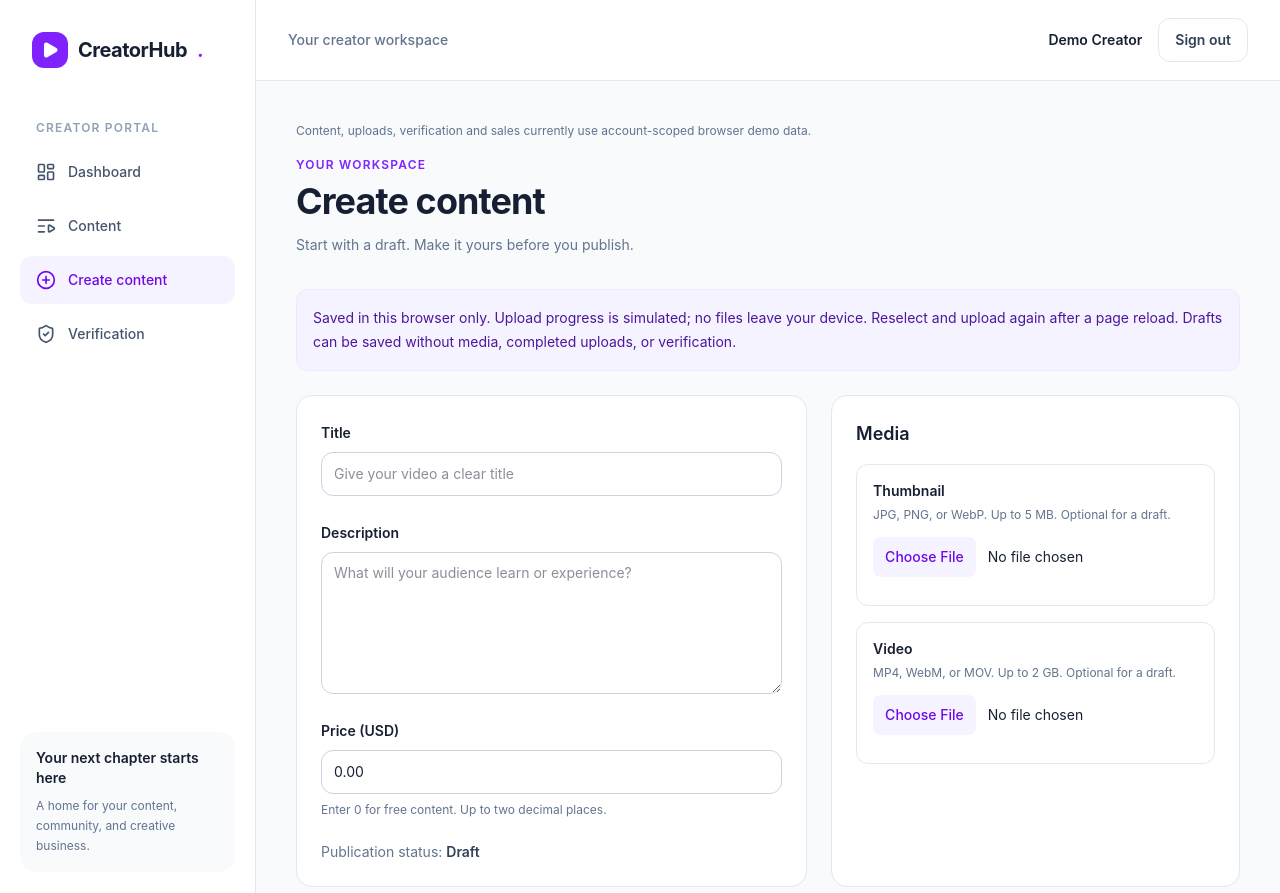
Test: content draft workflow › retains entered values and reports a failed save
This screenshot has width=1280, height=893.
Type "My first tutorial" into the field labelled "Title". click: (552, 474)
box: [321,452,782,496]
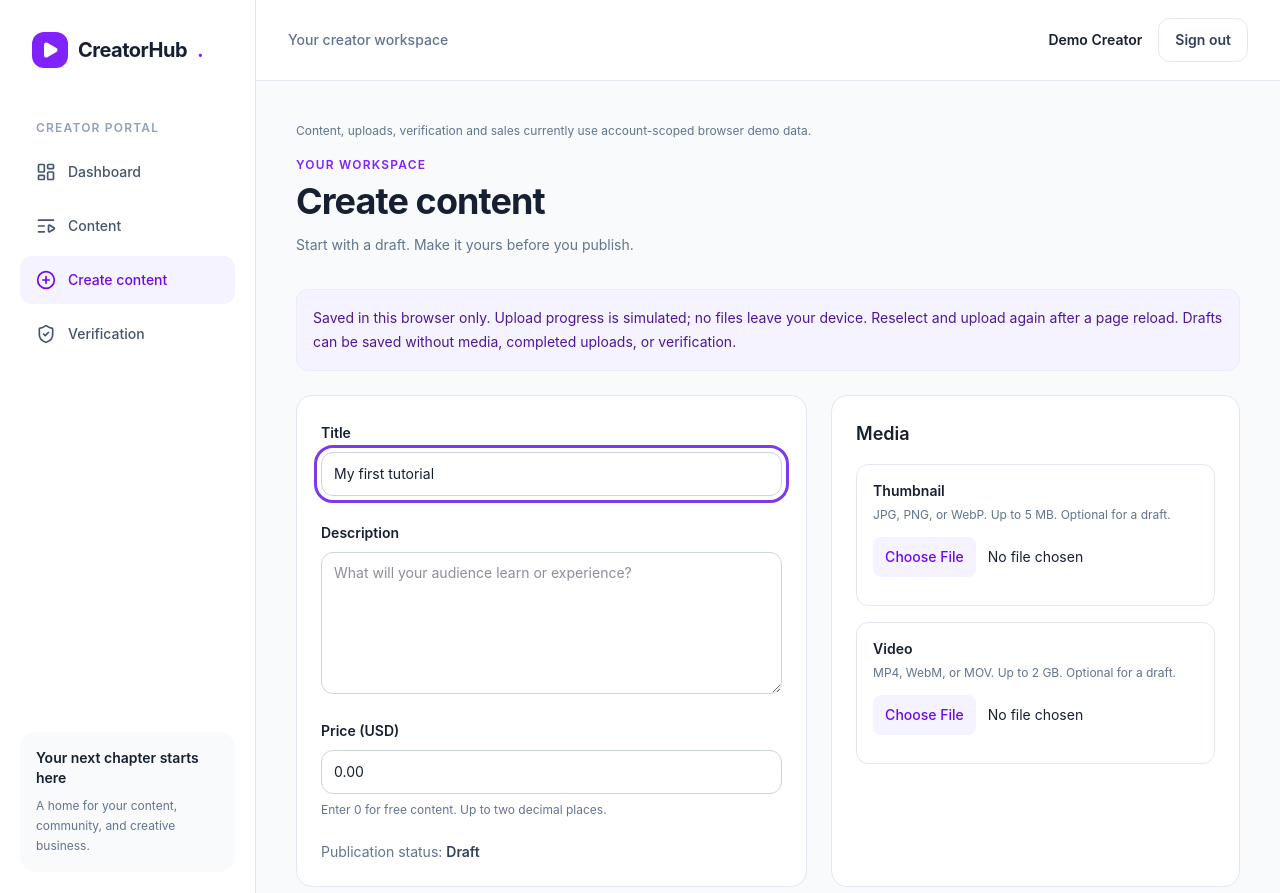
Type "Learn something useful today." into the text box labelled "Description". click: (552, 623)
box: [321,552,782,694]
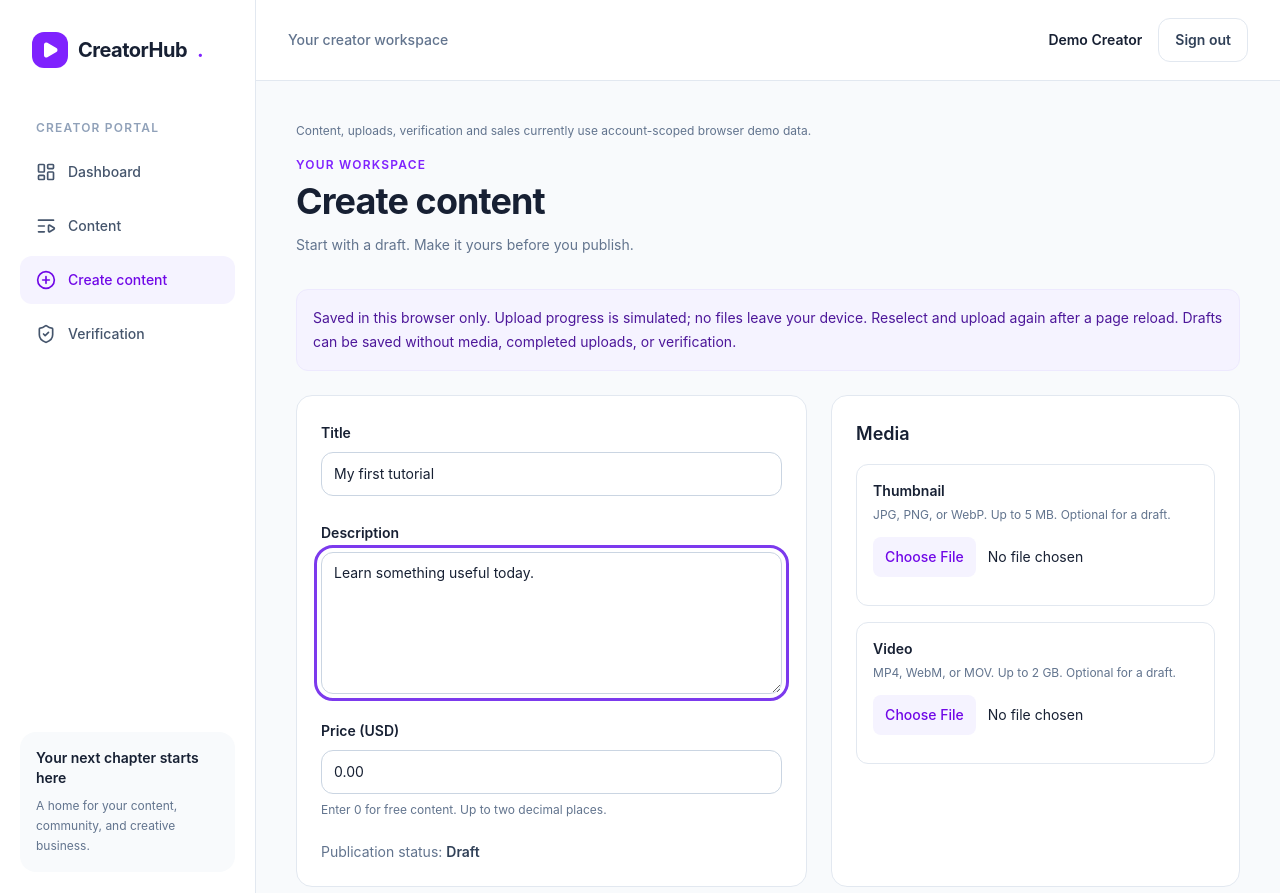
Replace the text in the field labelled "Price (USD)" with "9.99". click: (552, 772)
box: [321,750,782,794]
(page scrolled)
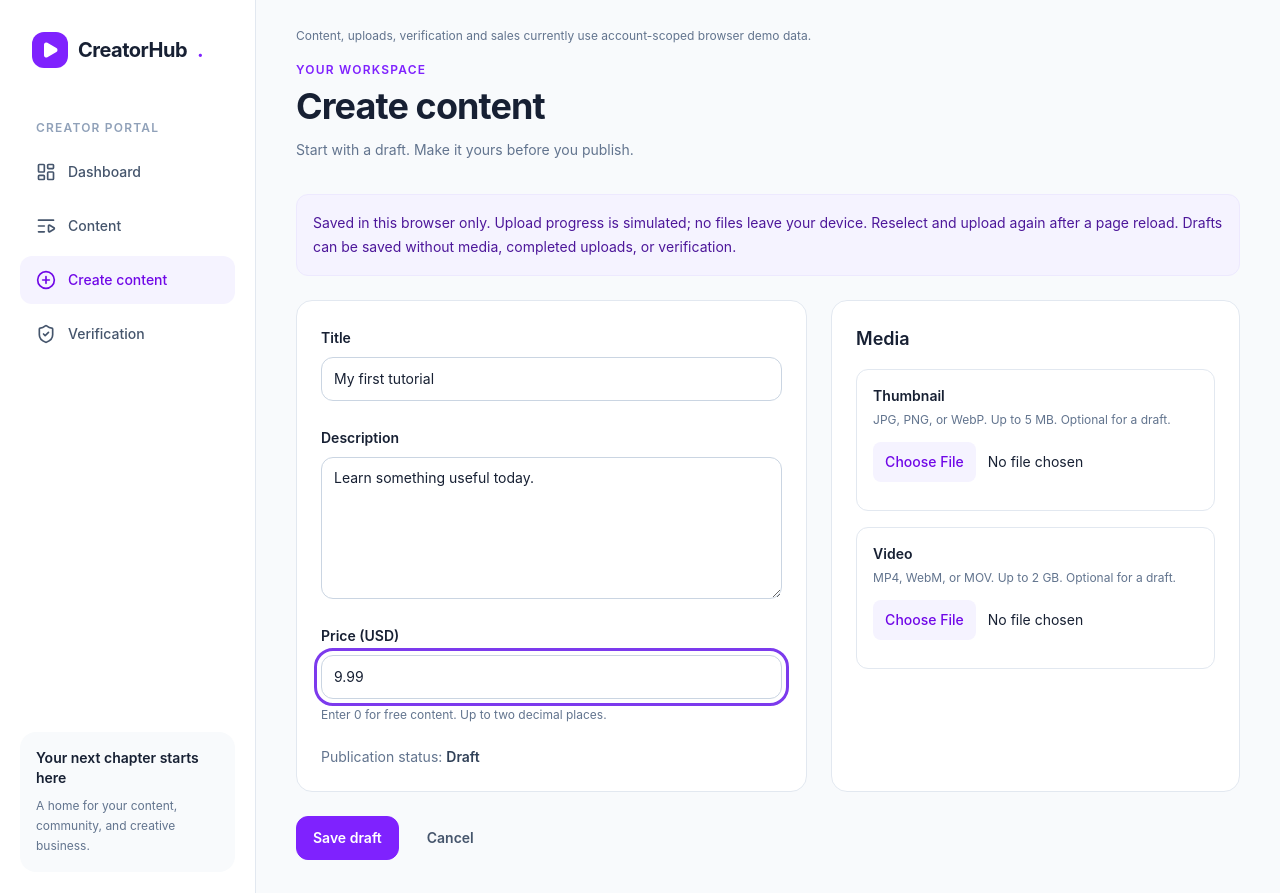
Click the button "Save draft". click: (347, 838)
box: [296,816,399,860]
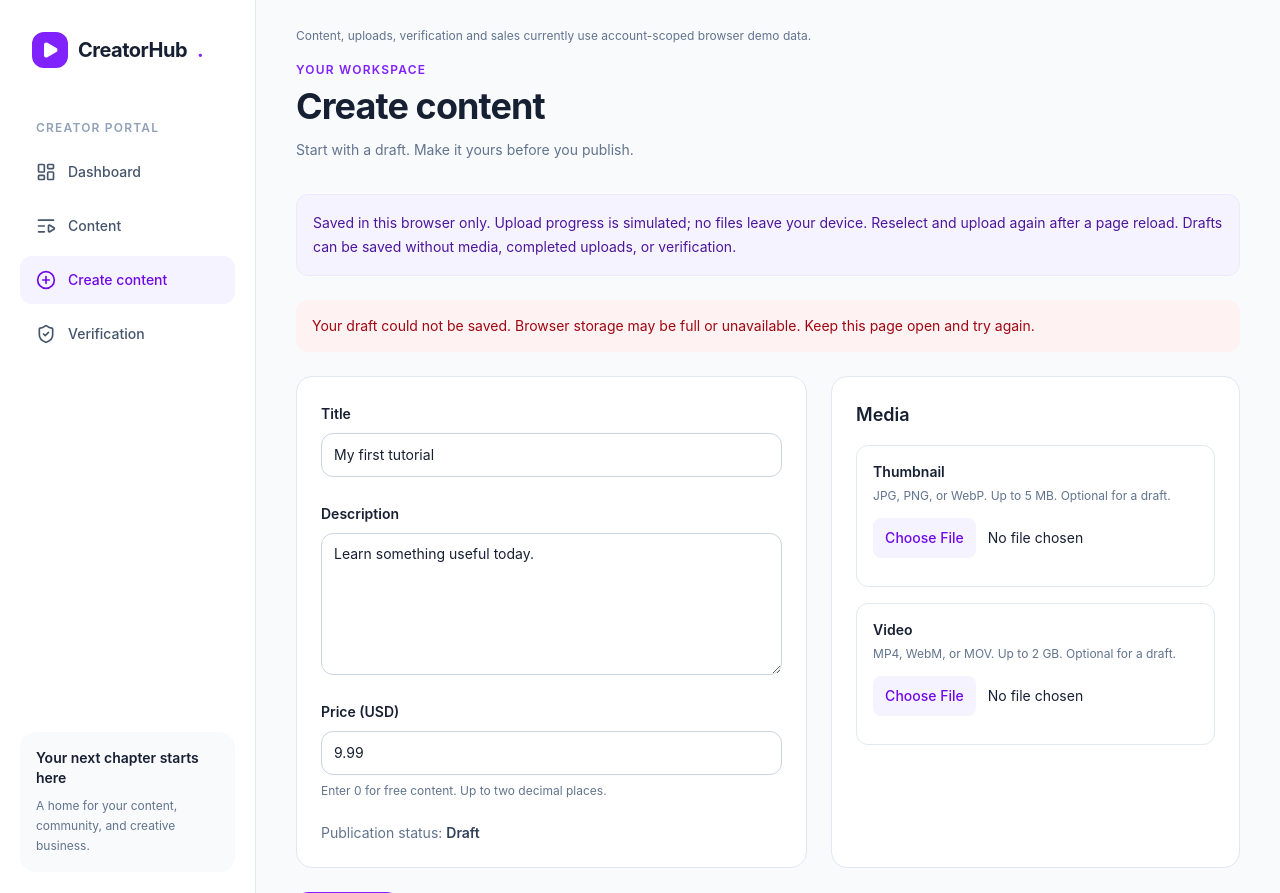
Result: the message shows "could not be saved" at [312,317,1035,334]
